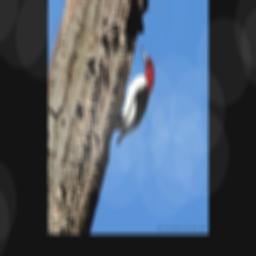Woodpecker: (107, 39, 160, 153)
